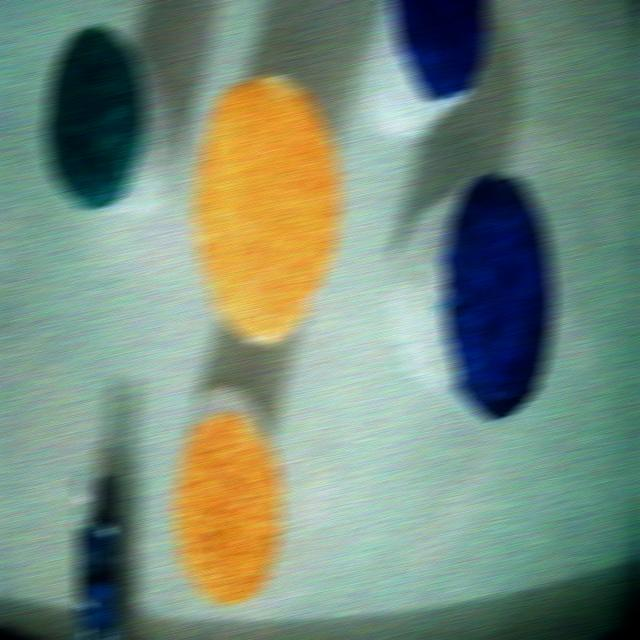blue: (441, 174, 554, 419), (389, 0, 488, 102)
green: (44, 25, 147, 207)
yellow: (193, 75, 342, 344), (171, 414, 282, 603)
